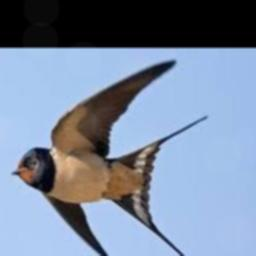Swallow: (12, 59, 207, 256)
